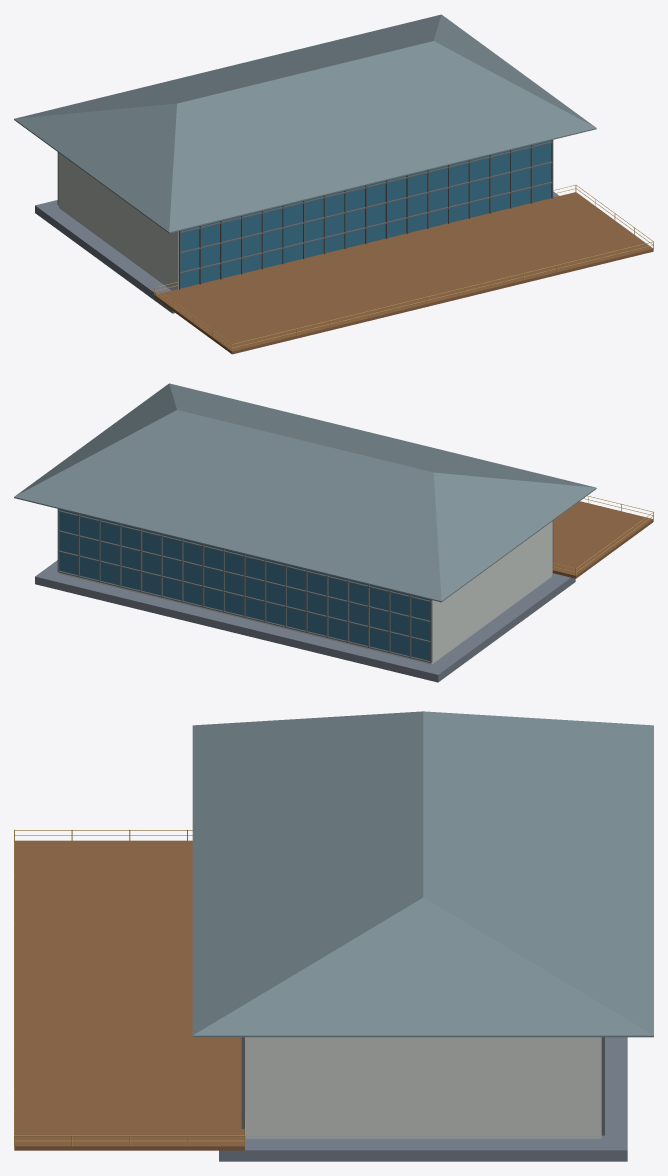
File: DINING_E.glb
3 views of the same model, one above another, from view 1: azimuth 30°, elevation 25°; view 2: azimuth 150°, elevation 25°; view 3: azimuth 270°, elevation 25° (orthographic). The views are drawn at different scales.
Visible parts, largest first — view 1: DINING_E; view 2: DINING_E; view 3: DINING_E.
Part boxes in pixels (x1,y1,x2,y2): DINING_E: (14, 14, 653, 354); DINING_E: (14, 383, 653, 682); DINING_E: (14, 711, 653, 1161).
Size of the model in its own units: 70 by 22.2 by 61.04.
